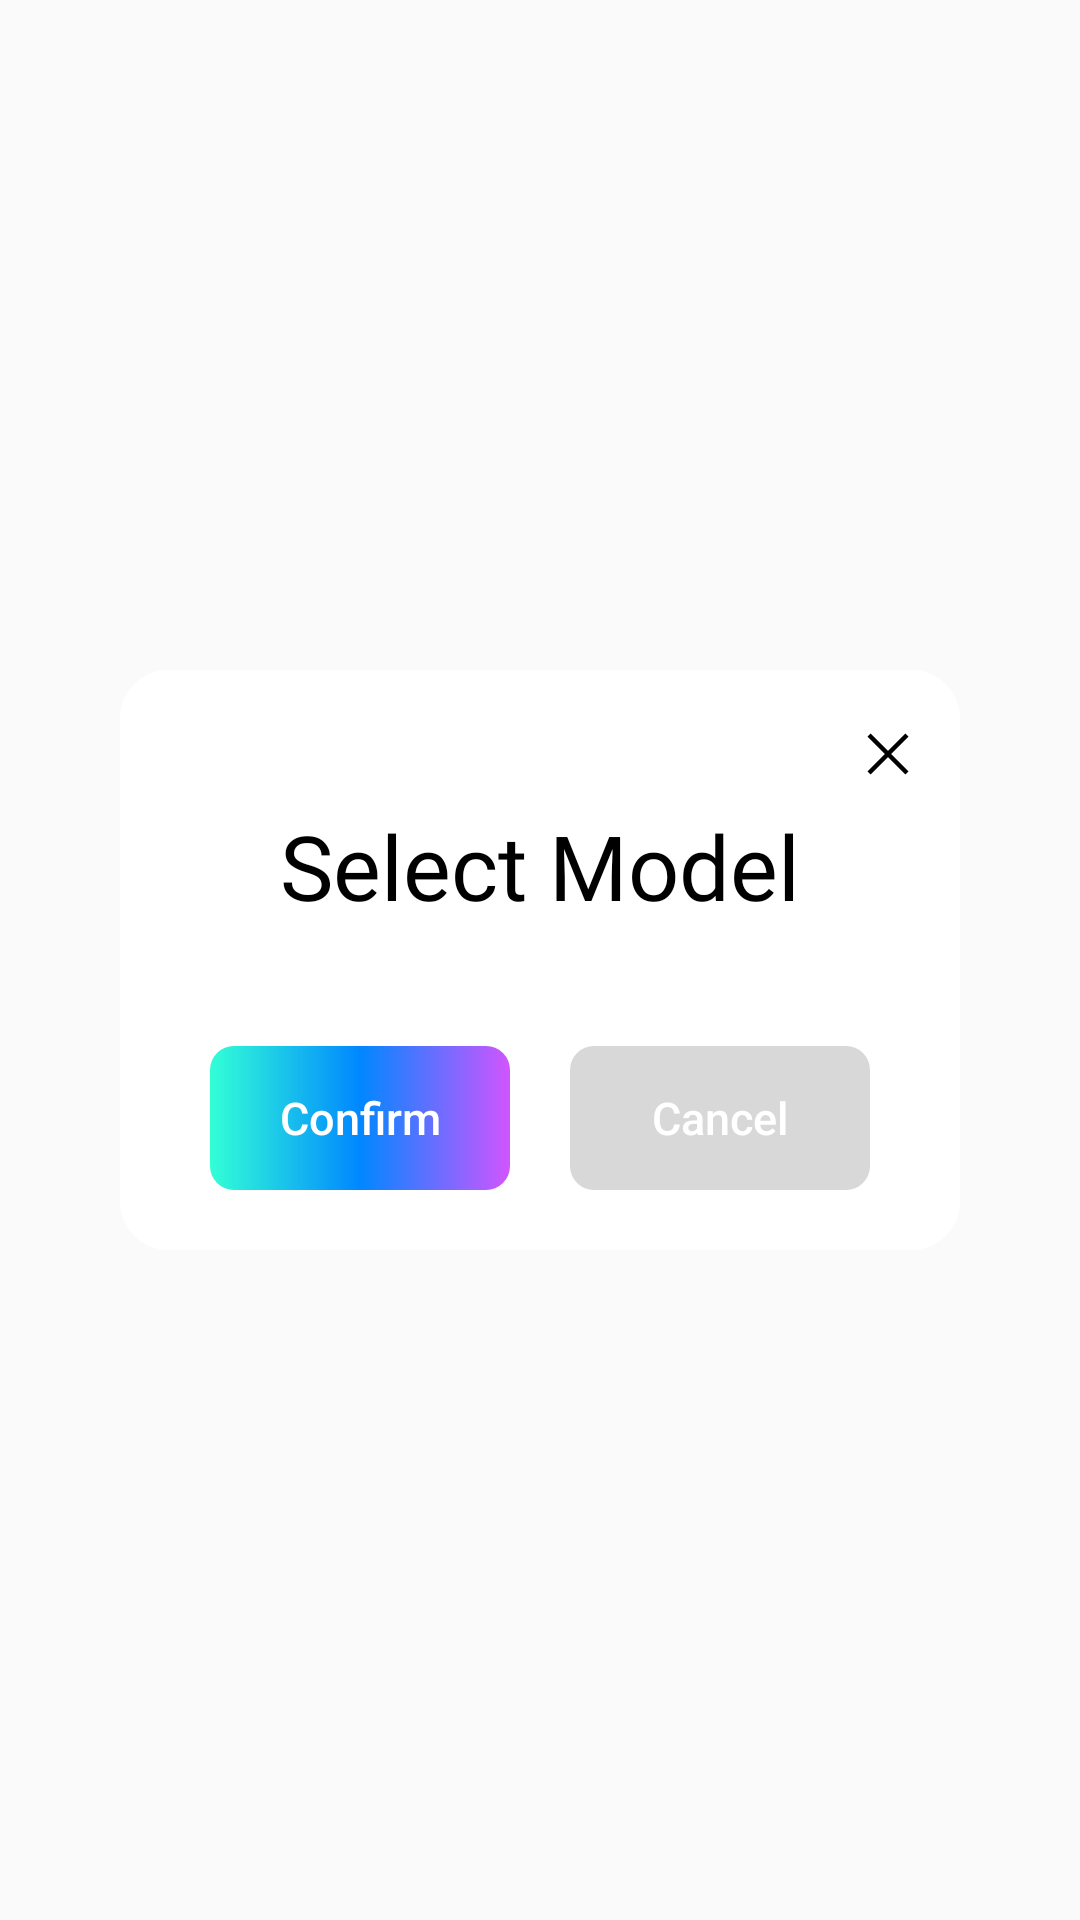

Icon bounding boxes for this 1080×1920 phone screenshot, format (x1, y1, x2, y2):
close: (867, 733, 909, 775)
